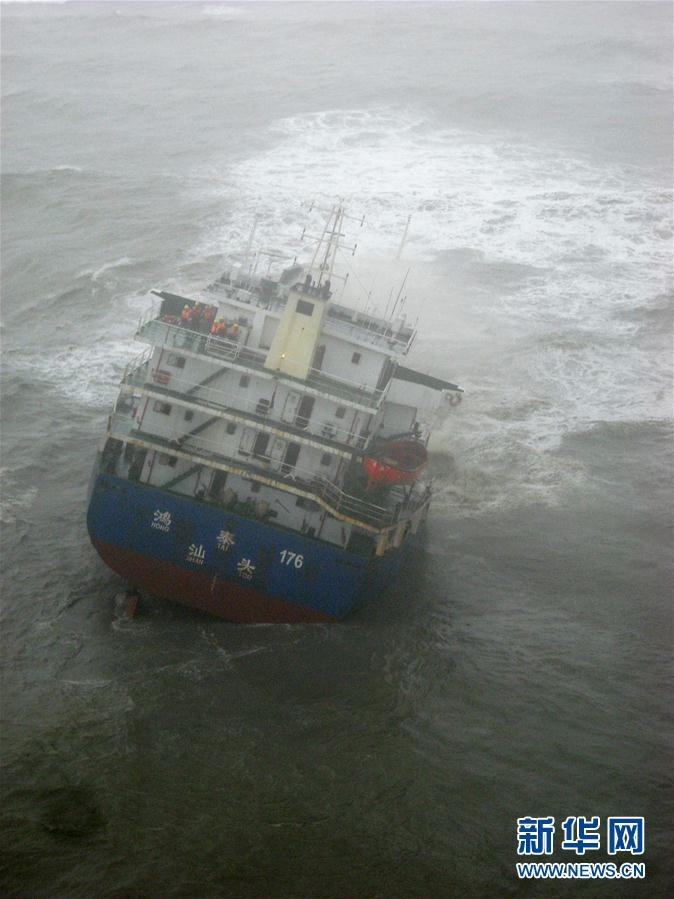otherboat: (76, 215, 461, 632)
